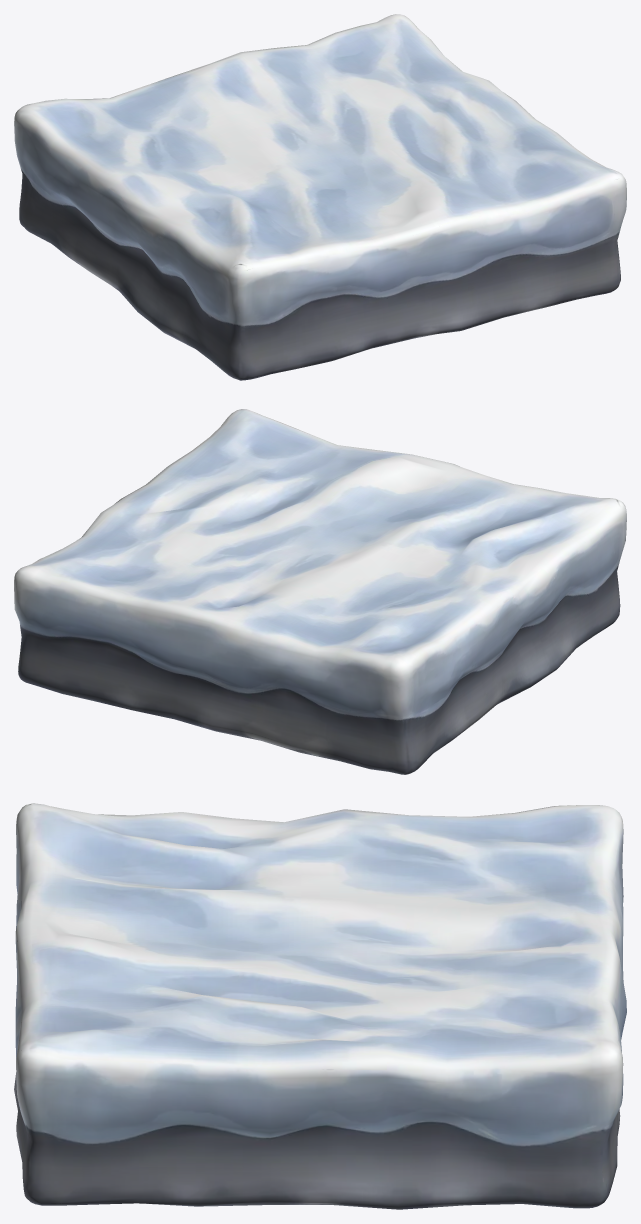
File: gndx_snow.glb
3 views of the same model, one above another, from view 1: azimuth 30°, elevation 25°; view 2: azimuth 150°, elevation 25°; view 3: azimuth 270°, elevation 25° (orthographic). The views are drawn at different scales.
Parts seen in each view (by area): view 1: Mesh0; view 2: Mesh0; view 3: Mesh0.
Boxes of the visible parts, x1,y1,x2,y2 form: Mesh0: [14, 14, 626, 380]; Mesh0: [14, 409, 626, 774]; Mesh0: [14, 803, 626, 1209].
Size of the model in its own units: 1.91 by 0.5465 by 1.9.
1 material, 1 textured.
